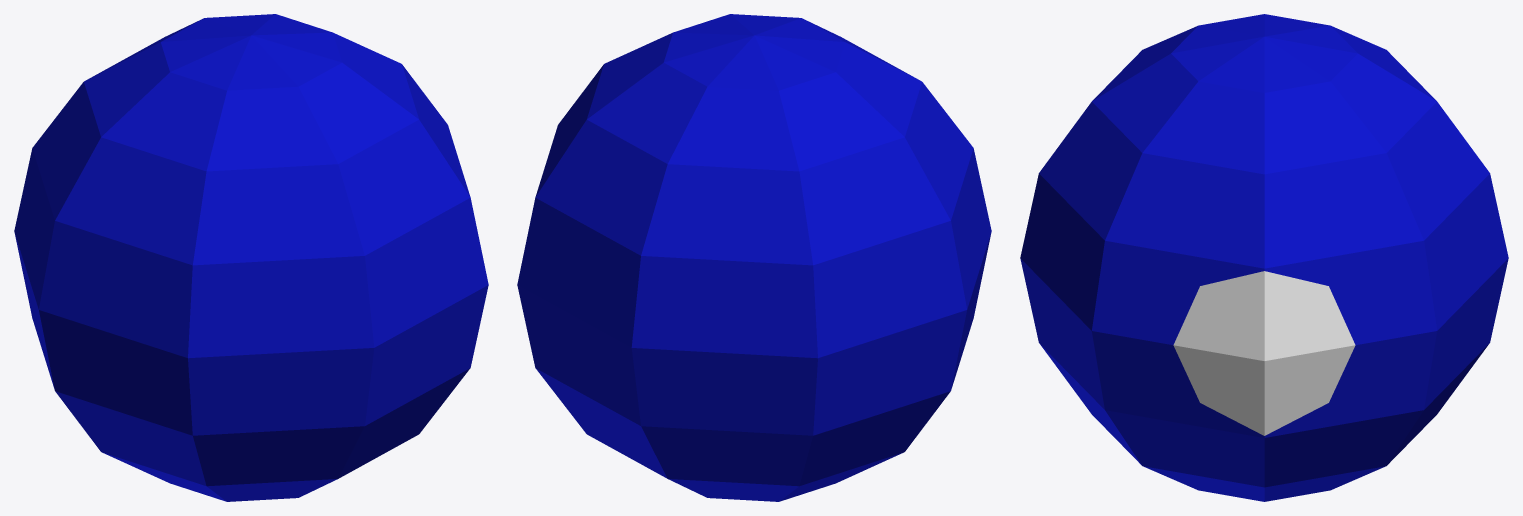
Rendered from azul1.obj.
3 renders of one model, left to right at view 1: azimuth 30°, elevation 25°; view 2: azimuth 150°, elevation 25°; view 3: azimuth 270°, elevation 25°, orthographic.
Parts seen in each view (by area): view 1: all_balls.008; view 2: all_balls.008; view 3: all_balls.008.
Part boxes in pixels (x1,y1,x2,y2): all_balls.008: (14,14,488,501); all_balls.008: (517,14,991,501); all_balls.008: (1020,14,1508,501).
Size of the model in its own units: 0.3459 by 0.3459 by 0.3459.
